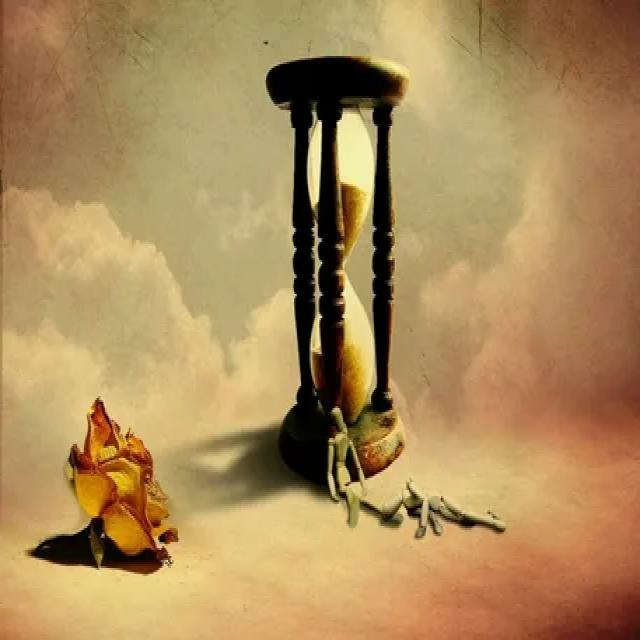clock: (264, 49, 415, 484)
